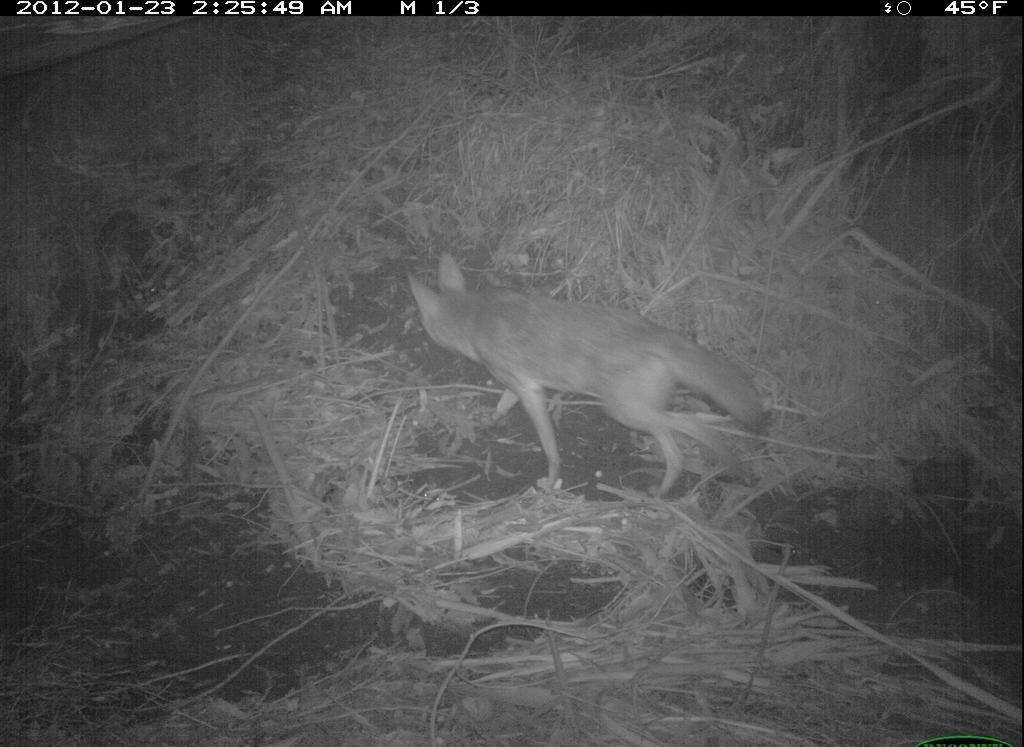coyote: (404, 248, 772, 510)
